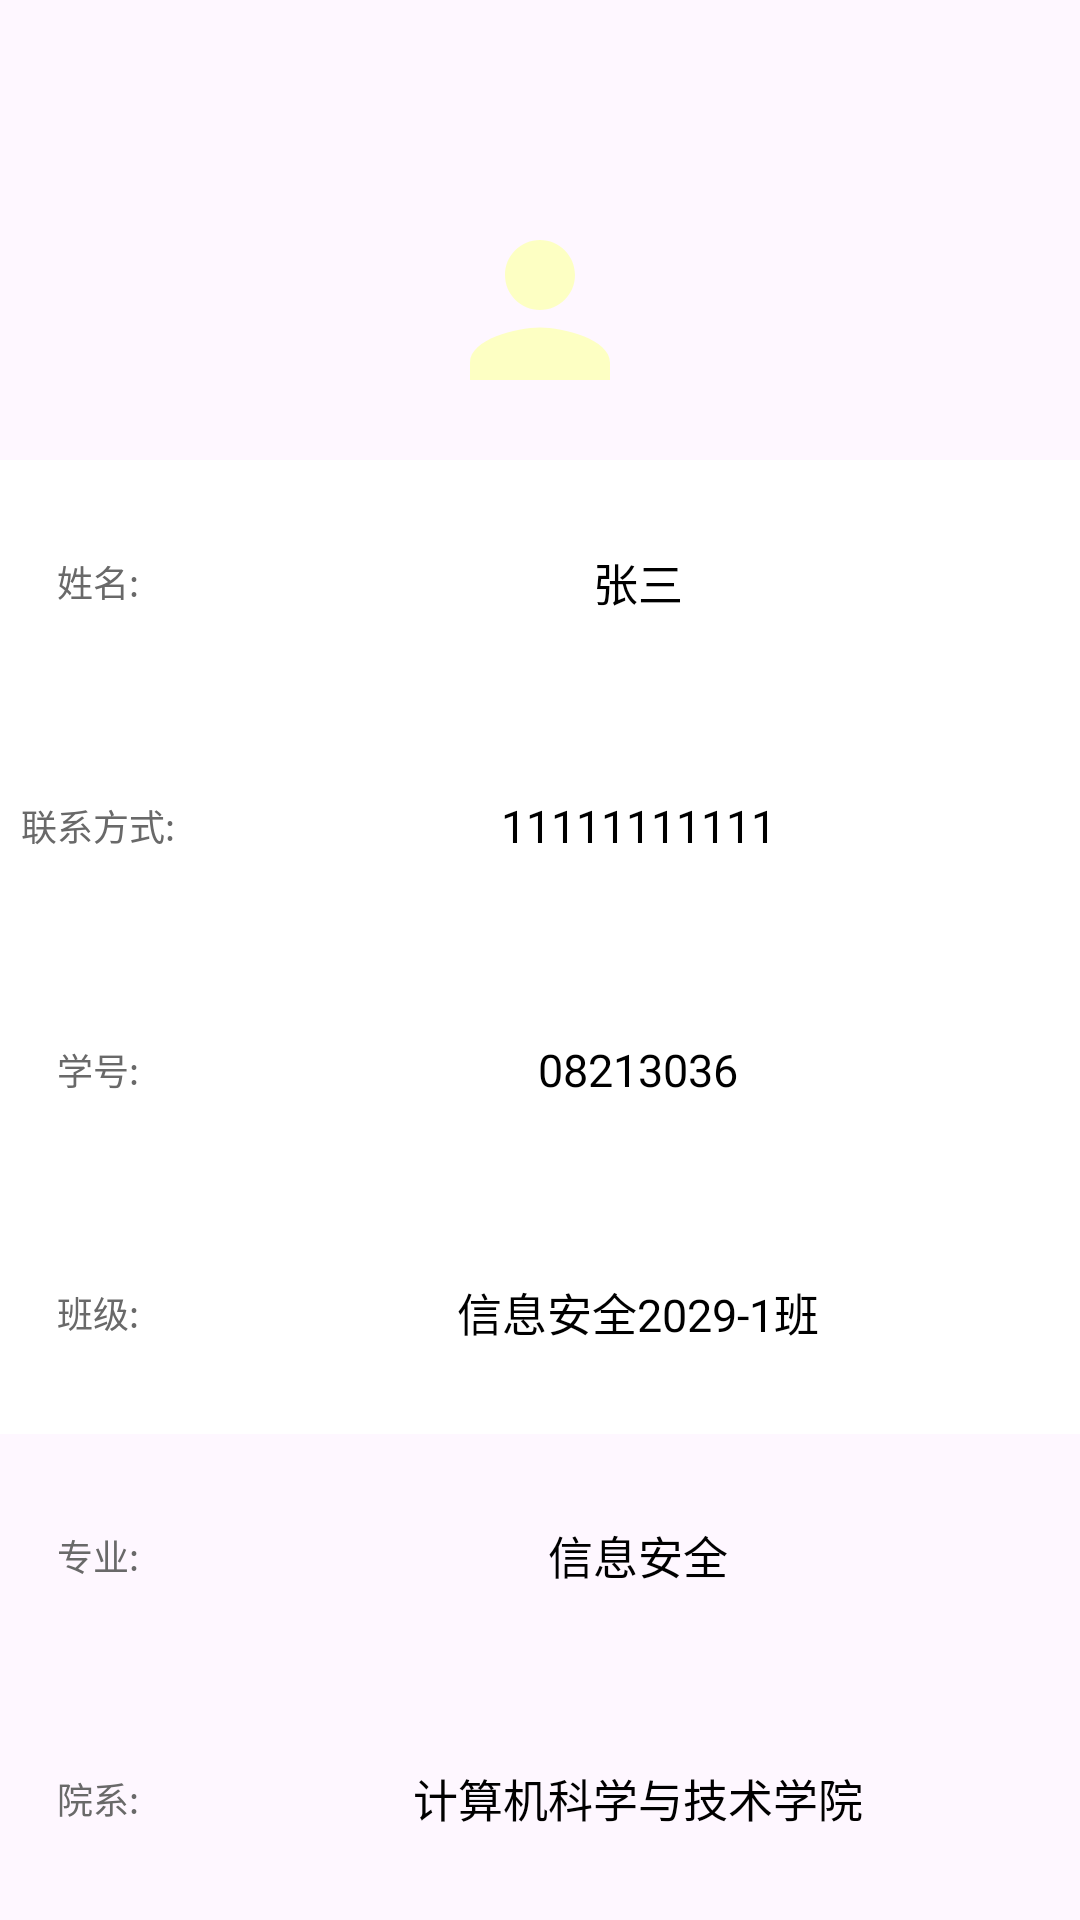

Screen size 1080*1920. Icon name, then its box in pixels as (x1=x1, y1=y1, x2=x2, y2=y2):
头像: (x1=470, y1=240, x2=610, y2=380)
